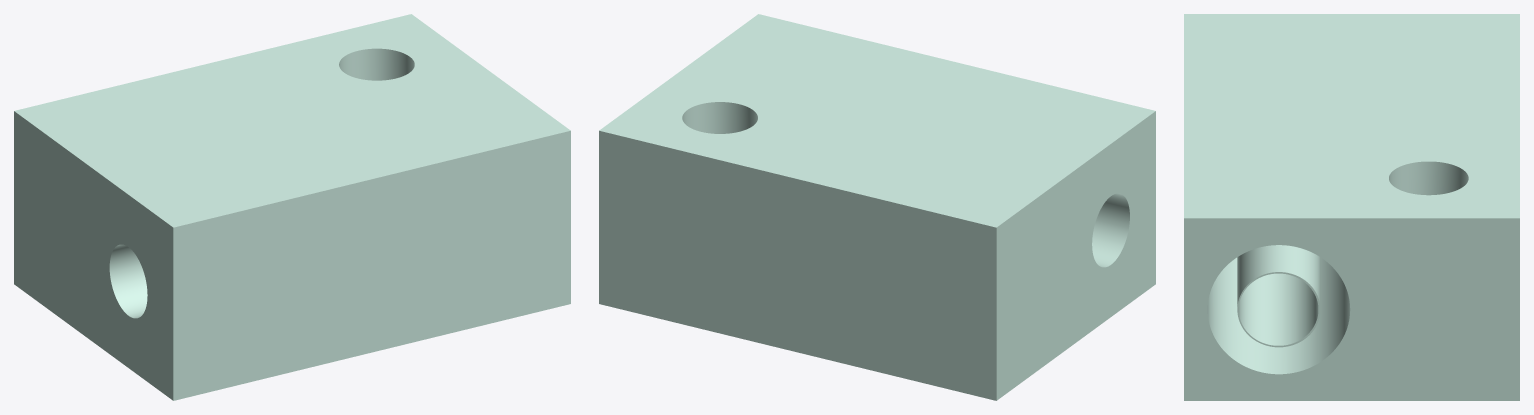
3 renders of one model, left to right at view 1: azimuth 30°, elevation 25°; view 2: azimuth 150°, elevation 25°; view 3: azimuth 270°, elevation 25°, orthographic. The views are drawn at different scales.
Parts seen in each view (by area): view 1: Renderer Node; view 2: Renderer Node; view 3: Renderer Node.
Part boxes in pixels (<box>): Renderer Node: <box>14,14,570,400</box>; Renderer Node: <box>599,14,1155,400</box>; Renderer Node: <box>1184,14,1519,400</box>.
Bounding box in the file's own units: 0.75 × 0.3125 × 0.5211.
